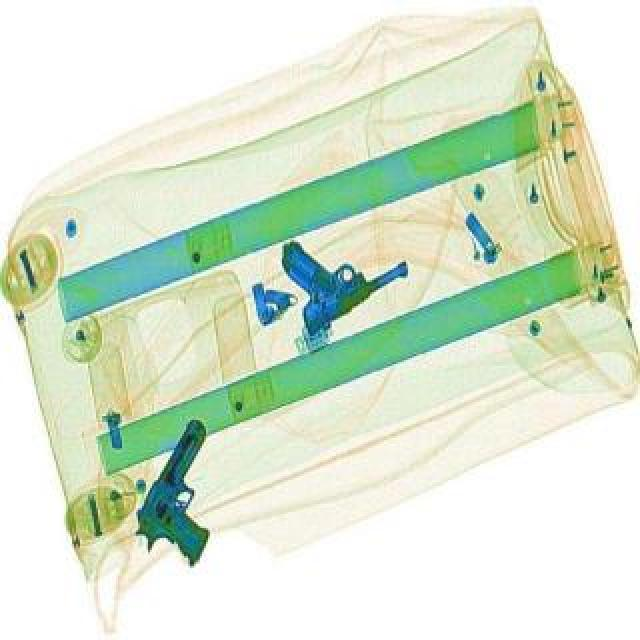gun: (254, 196, 414, 336), (120, 414, 260, 570)
